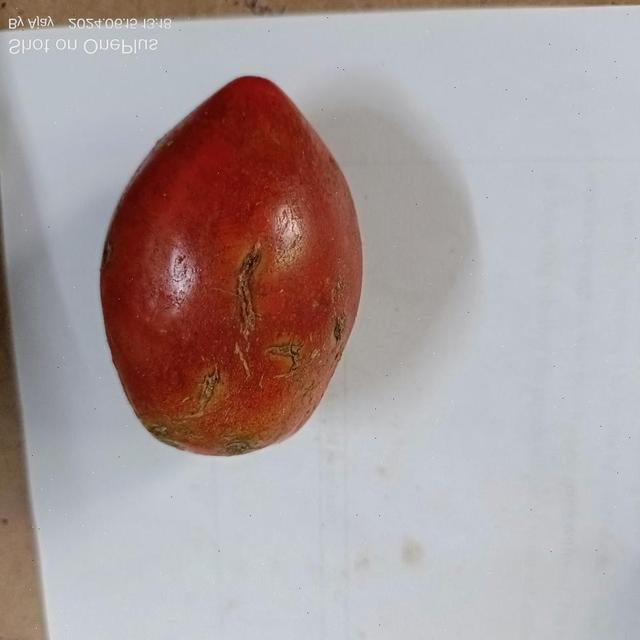Bacterial Spot Fruit: (12, 19, 226, 261)
